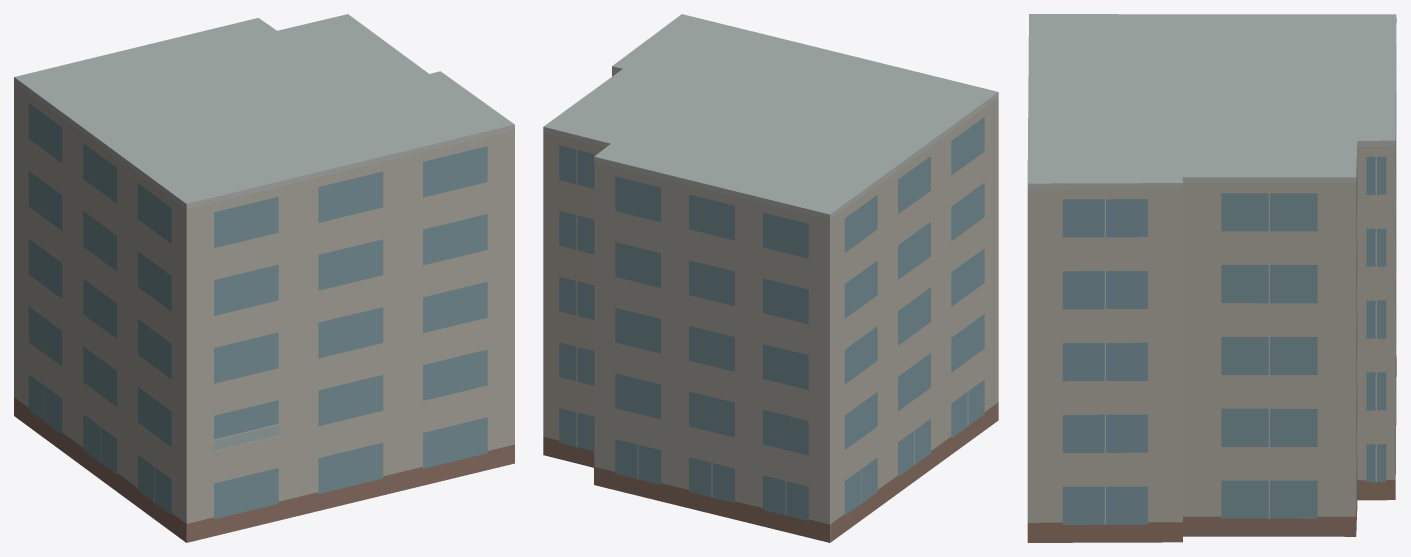
File: survey-upis-32607655.glb
3 renders of one model, left to right at view 1: azimuth 30°, elevation 25°; view 2: azimuth 150°, elevation 25°; view 3: azimuth 270°, elevation 25°, orthographic. The views are drawn at different scales.
Parts seen in each view (by area): view 1: survey-upis-32607655.tmp; view 2: survey-upis-32607655.tmp; view 3: survey-upis-32607655.tmp.
Part boxes in pixels (x1,y1,x2,y2): survey-upis-32607655.tmp: (14,14,514,542); survey-upis-32607655.tmp: (543,14,998,542); survey-upis-32607655.tmp: (1027,14,1396,542).
Size of the model in its own units: 15.44 by 15.25 by 14.19.
